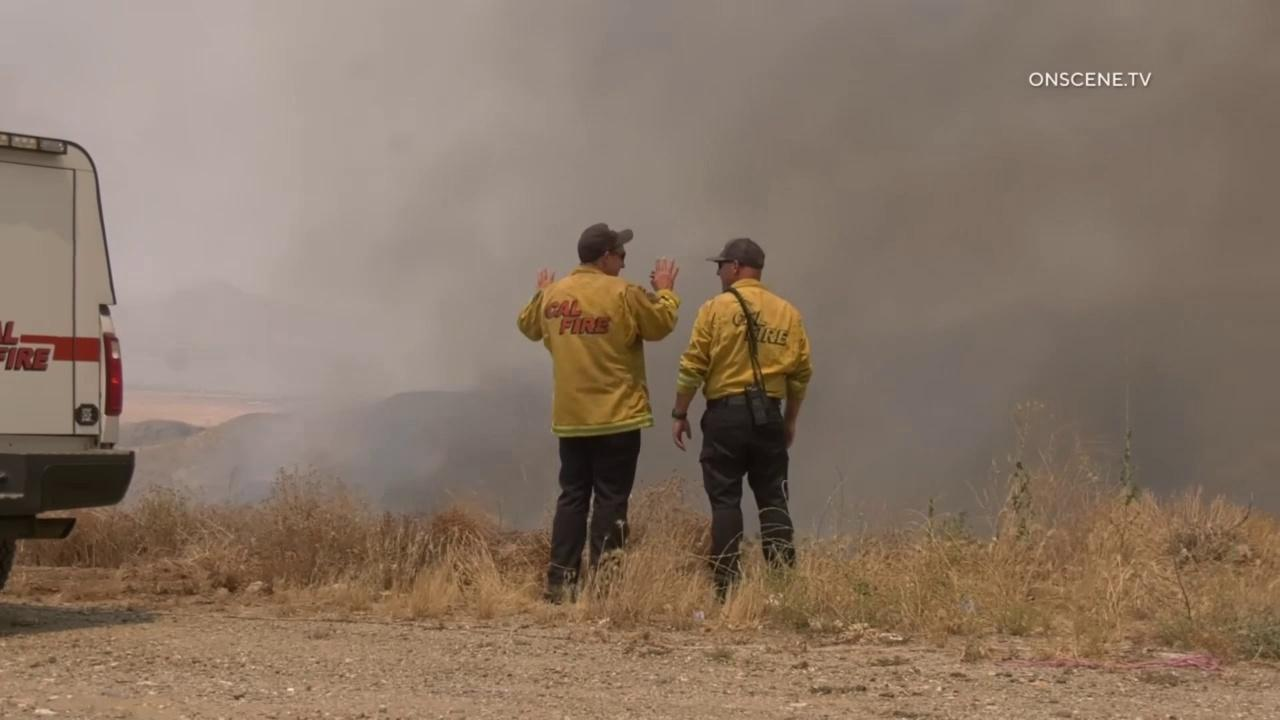smoke: (0, 0, 1280, 534)
